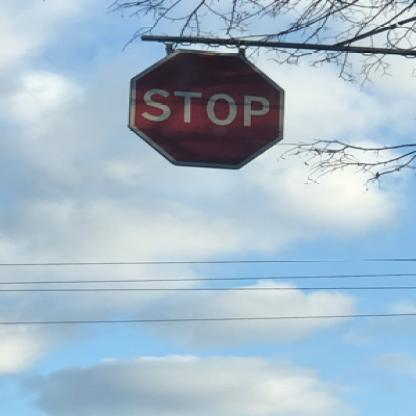Stop: (128, 50, 282, 169)
